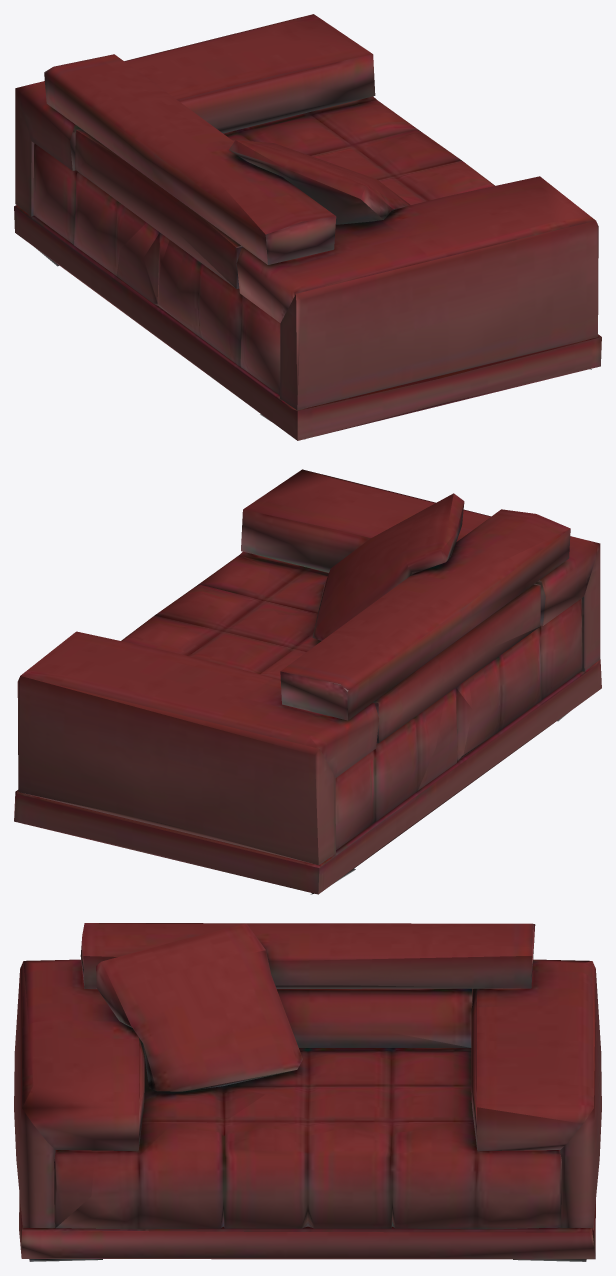
File: M_Sofa0008.obj
3 renders of one model, top to bottom at view 1: azimuth 30°, elevation 25°; view 2: azimuth 150°, elevation 25°; view 3: azimuth 270°, elevation 25°, orthographic.
Size of the model in its own units: 0.994 by 0.622 by 1.54.
Materials: 1 (1 with a texture image).
